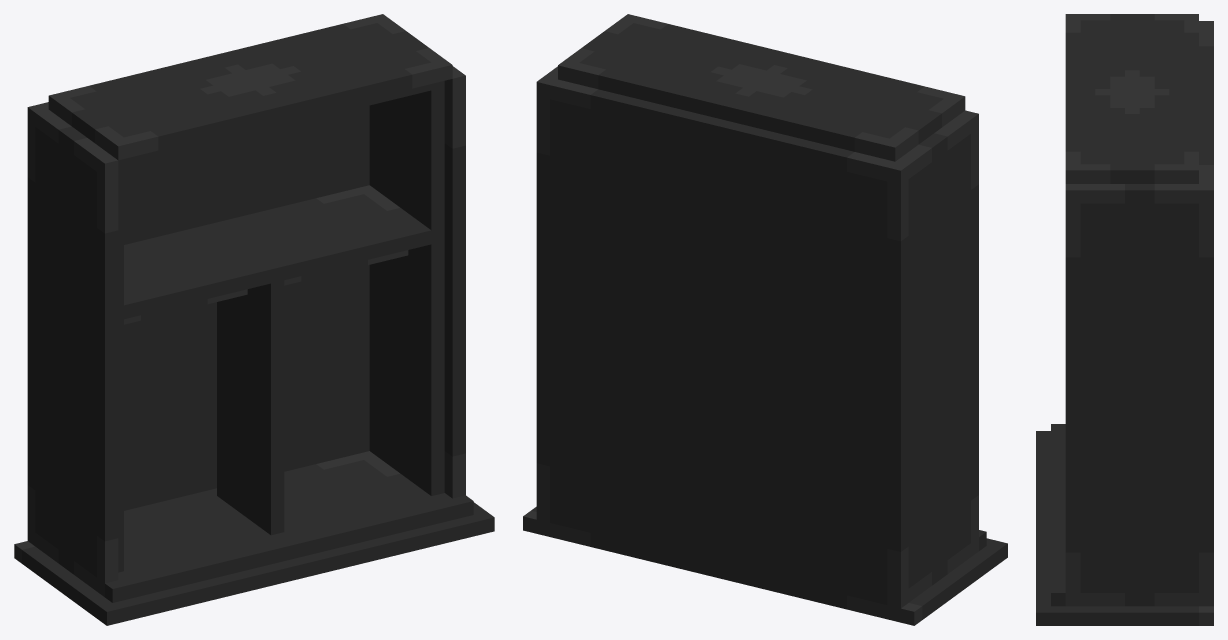
File: Decor-59.obj
The picture shows the model from 3 angles, left to right: view 1: azimuth 30°, elevation 25°; view 2: azimuth 150°, elevation 25°; view 3: azimuth 270°, elevation 25°; orthographic projection. The views are drawn at different scales.
Bounding box in the file's own units: 2.9 × 3.3 × 1.2.
Materials: 1 (1 with a texture image).
